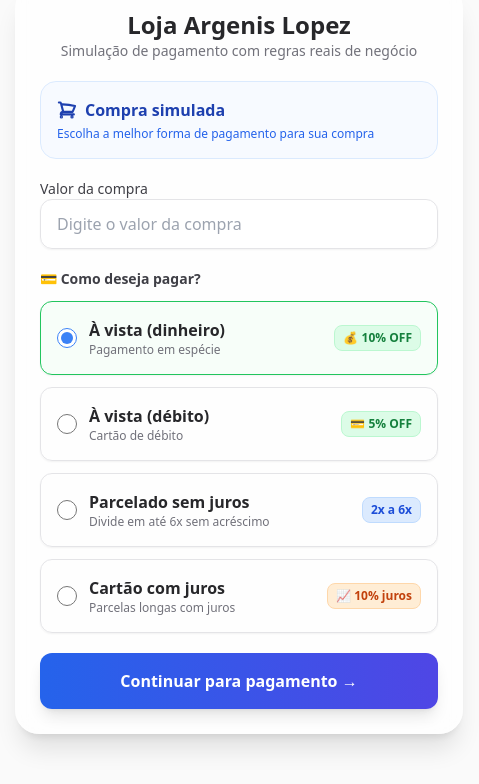
Test: Componente PagamentoForm › não deve submeter se o valor for inválido
// Tenta submeter sem preencher valor
Click the button "Continuar para pagamento →".
click(239, 681)  # box [40, 653, 438, 709]
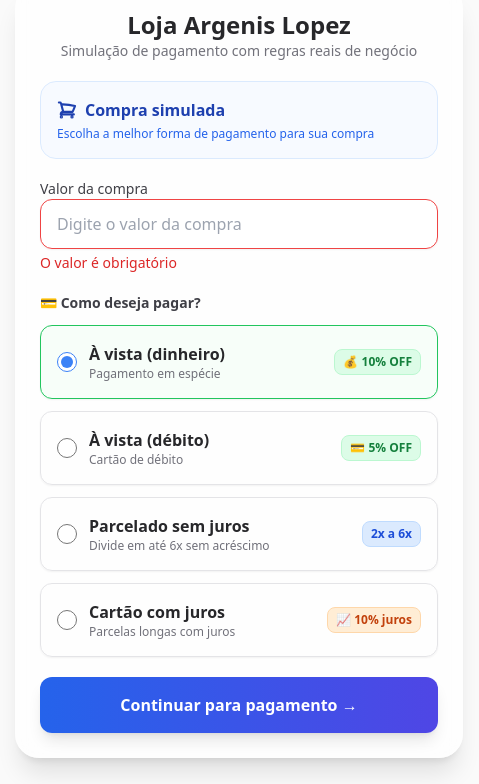
Now the text "O valor é obrigatório" is shown, box [40, 253, 177, 272]
